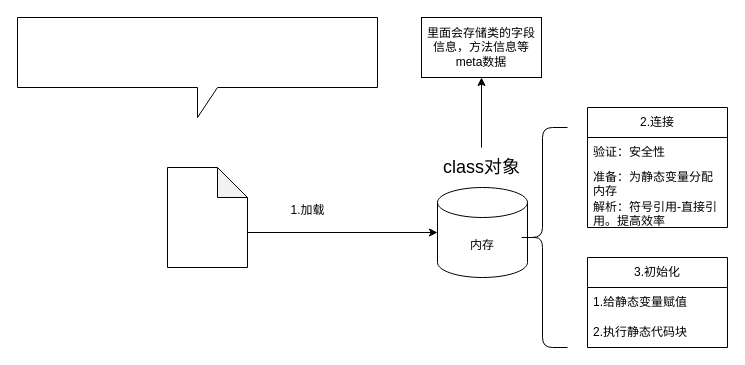
Some shapes in this 745 by 365 pixel diagram are drawn without their labels. The shapes that lost their labels are listed below. From the top down, each one's box as (x1, y1, x2, y2) in pixels, then its label:
(16, 16, 378, 118): 将 Java 类的字节码从不同的数据源（如文件系统、网络等）加载到内存中，并将其转化为 JVM 可以理解的 Class 对象的过程
(166, 166, 248, 268): 字节码文件.class
